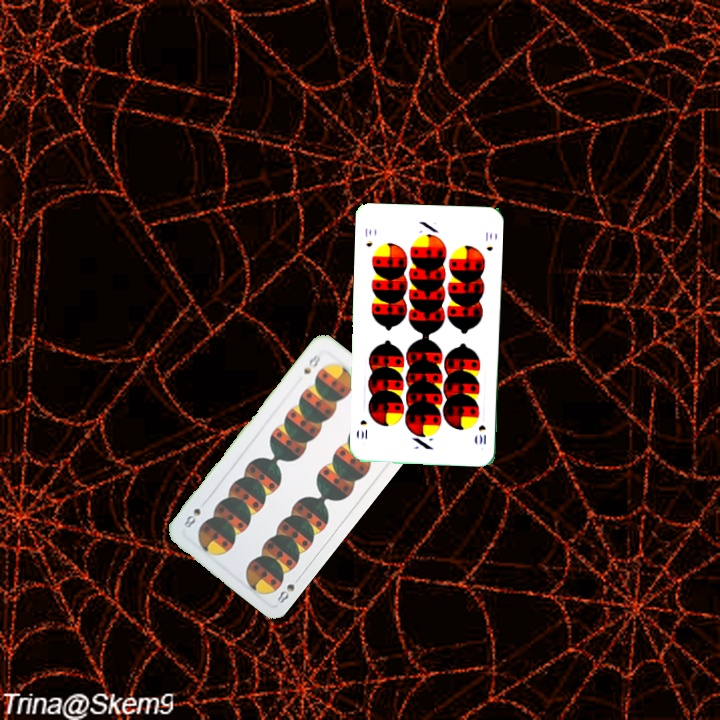S10: (361, 224, 375, 249), (475, 421, 488, 447)
S8: (273, 572, 304, 606), (299, 347, 323, 377)
